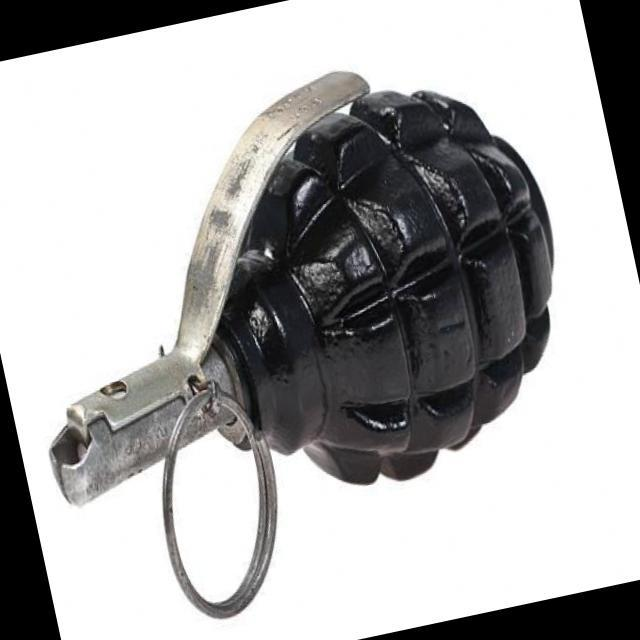grenade: (0, 36, 618, 640)
